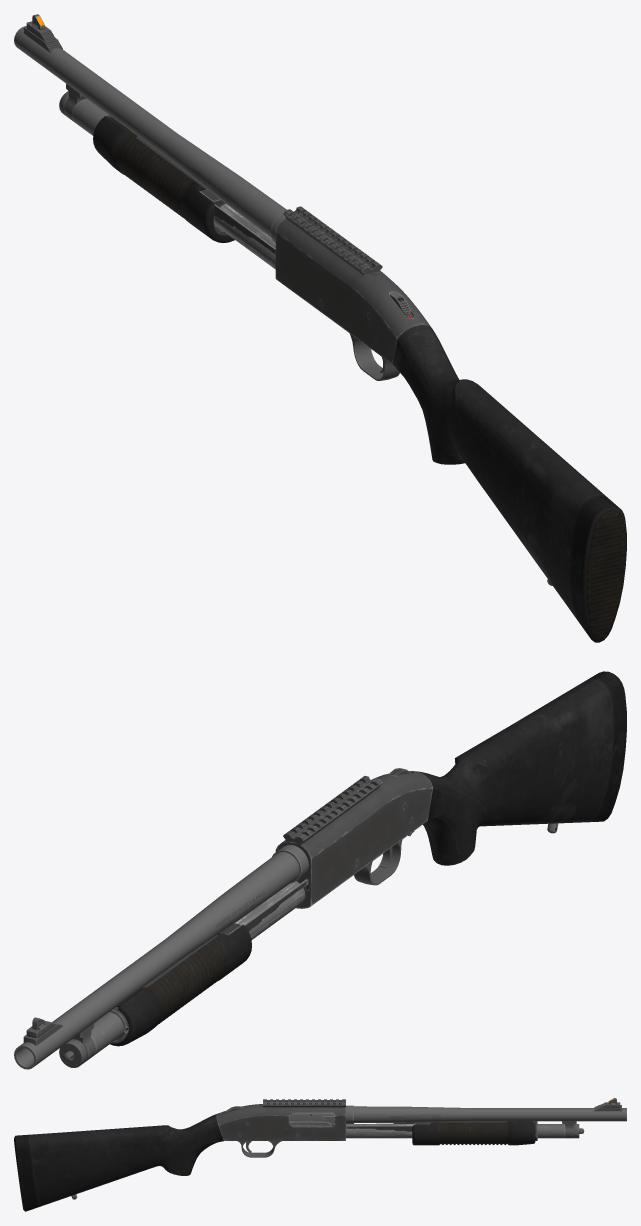
Rendered from shotgun.glb.
3 views of the same model, one above another, from view 1: azimuth 30°, elevation 25°; view 2: azimuth 150°, elevation 25°; view 3: azimuth 270°, elevation 25° (orthographic). The views are drawn at different scales.
Parts seen in each view (by area): view 1: weapon; view 2: weapon; view 3: weapon.
Boxes of the visible parts, x1,y1,x2,y2 form: weapon: [14, 14, 626, 642]; weapon: [14, 671, 626, 1069]; weapon: [14, 1098, 626, 1211].
Size of the model in its own units: 0.0487 by 0.2114 by 1.04.
Materials: 4 (4 with a texture image).
